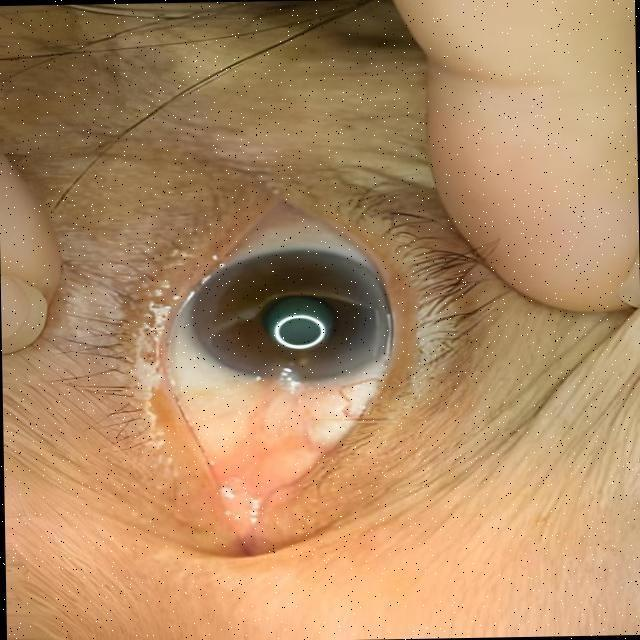Pterygium: (198, 354, 350, 526)
